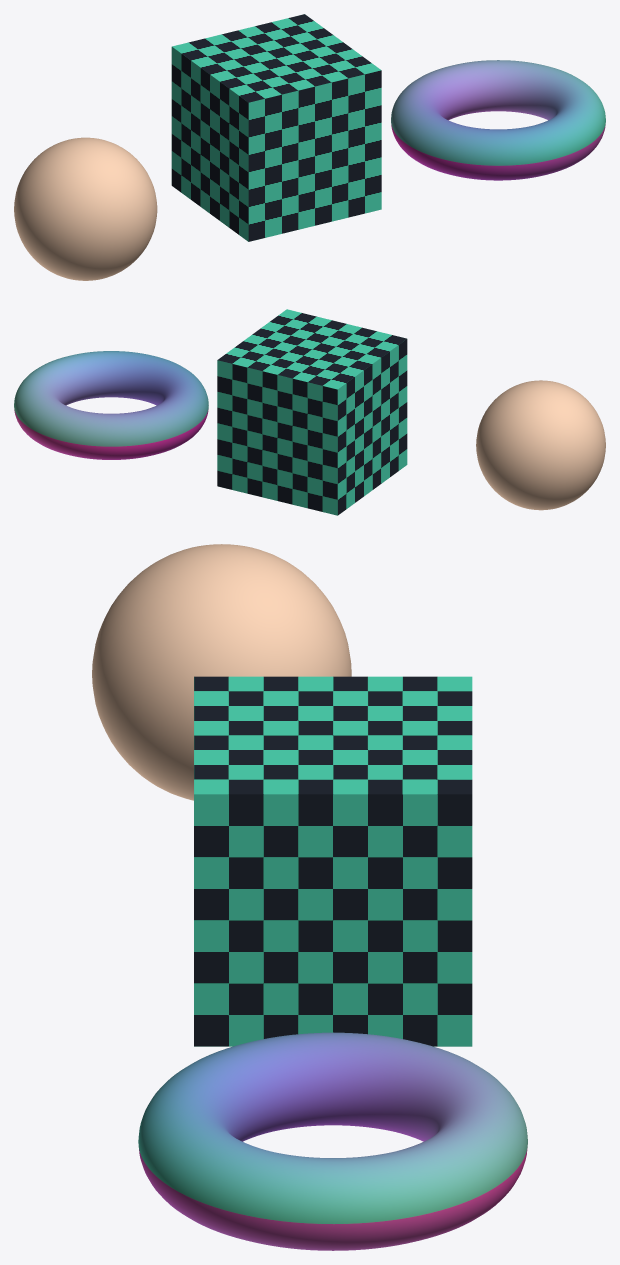
Rendered from sample.glb.
3 renders of one model, top to bottom at view 1: azimuth 30°, elevation 25°; view 2: azimuth 150°, elevation 25°; view 3: azimuth 270°, elevation 25°, orthographic. The views are drawn at different scales.
Parts seen in each view (by area): view 1: Cube, Torus, Sphere; view 2: Cube, Torus, Sphere; view 3: Cube, Torus, Sphere.
Boxes of the visible parts, x1,y1,x2,y2 form: Cube: (171, 14, 381, 241); Torus: (391, 60, 605, 180); Sphere: (14, 137, 157, 280); Cube: (217, 309, 407, 515); Torus: (14, 351, 208, 459); Sphere: (476, 380, 605, 510); Cube: (194, 676, 472, 1046); Torus: (138, 1032, 527, 1250); Sphere: (92, 544, 351, 800).
Bounding box in the file's own units: 6.75 × 1.5 × 2.35.
3 materials, 2 textured.
